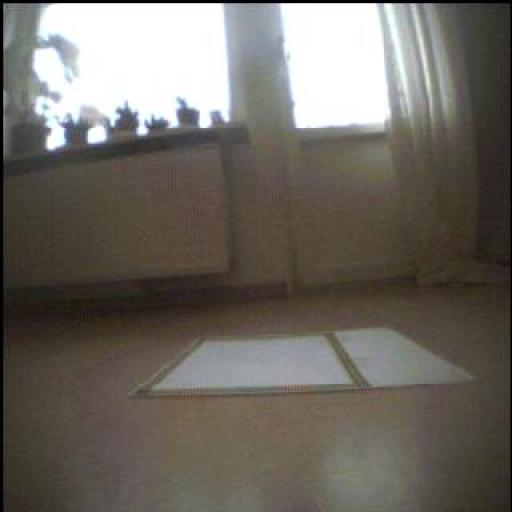Pad: (134, 329, 475, 398)
